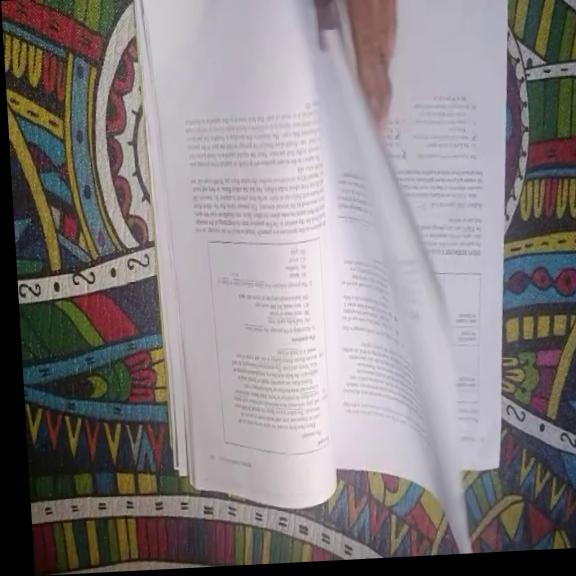Kertas: (308, 0, 533, 493), (137, 0, 341, 517)
